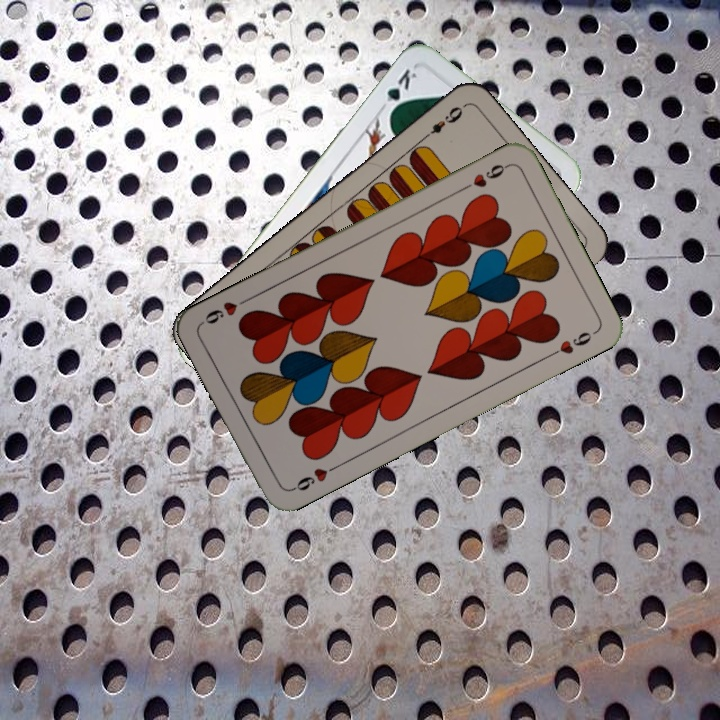E9: (417, 101, 467, 144)
GK: (375, 65, 420, 119)
H9: (457, 160, 512, 194), (286, 461, 341, 495)
